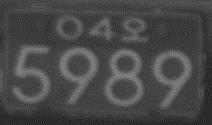0: (56, 13, 84, 41)
4: (88, 16, 117, 42)
5: (11, 45, 52, 105)
8: (103, 46, 145, 108)
9: (152, 48, 194, 109), (58, 44, 99, 105)
오: (121, 15, 147, 42)
